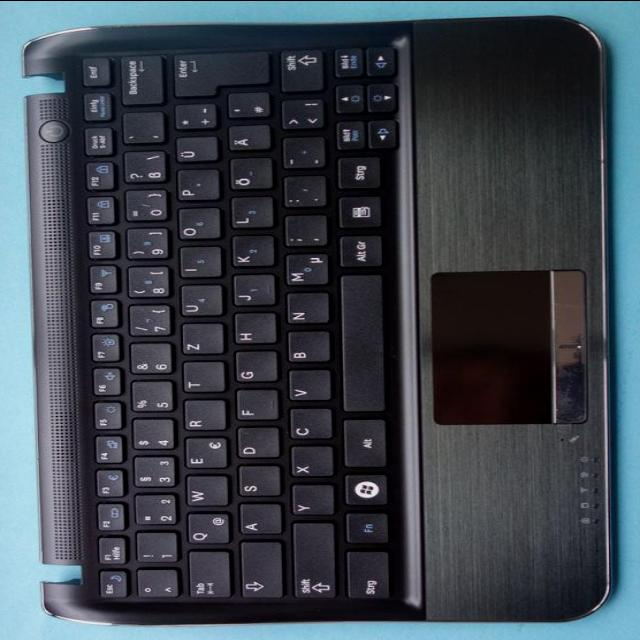0: (120, 191, 166, 225)
1: (131, 533, 176, 565)
2: (129, 495, 175, 528)
3: (129, 457, 174, 491)
4: (128, 420, 173, 452)
5: (127, 382, 172, 415)
6: (126, 344, 171, 378)
7: (124, 306, 171, 339)
8: (122, 268, 168, 302)
9: (121, 229, 167, 263)
a: (235, 505, 280, 537)
accent: (118, 114, 163, 147)
ae: (224, 127, 269, 155)
alt-left: (339, 419, 385, 470)
altgr-right: (334, 237, 380, 271)
b: (282, 332, 329, 366)
c: (285, 409, 332, 442)
caret: (132, 572, 176, 601)
comma: (280, 216, 326, 250)
d: (233, 428, 279, 461)
del: (115, 56, 161, 108)
e: (180, 438, 227, 472)
enter: (168, 52, 268, 100)
f: (232, 390, 277, 423)
g: (230, 353, 276, 386)
h: (229, 314, 275, 348)
hash: (221, 95, 268, 121)
i: (174, 248, 219, 281)
j: (227, 276, 273, 309)
k: (227, 237, 273, 270)
keyboard: (70, 39, 413, 613)
l: (226, 198, 272, 232)
less: (277, 100, 324, 132)
m: (280, 255, 327, 289)
minus: (278, 138, 323, 172)
n: (281, 294, 327, 328)
o: (173, 209, 219, 243)
oe: (226, 159, 271, 193)
p: (172, 170, 218, 204)
plus: (168, 106, 215, 134)
point: (279, 177, 324, 211)
q: (183, 514, 229, 547)
r: (180, 401, 225, 434)
s: (234, 467, 280, 499)
shift-left: (287, 523, 334, 602)
shift-lock: (235, 543, 281, 602)
shift-right: (278, 48, 325, 93)
space: (337, 276, 385, 414)
ss: (119, 153, 165, 187)
strg-left: (342, 552, 388, 605)
strg-right: (332, 158, 379, 192)
t: (178, 363, 224, 395)
tab: (182, 552, 228, 601)
u: (175, 286, 221, 319)
ue: (171, 138, 217, 166)
v: (283, 371, 329, 403)
w: (181, 477, 227, 510)
x: (287, 447, 332, 480)
y: (288, 486, 333, 518)
z: (177, 324, 222, 357)
